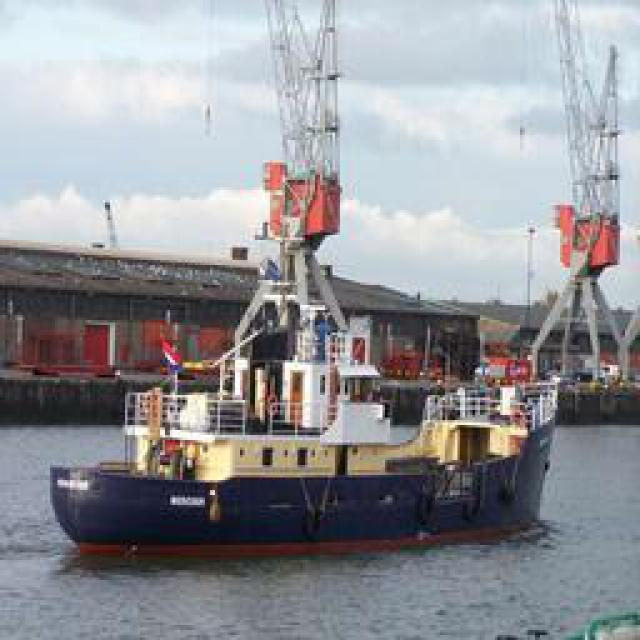Ship: (62, 7, 562, 550)
